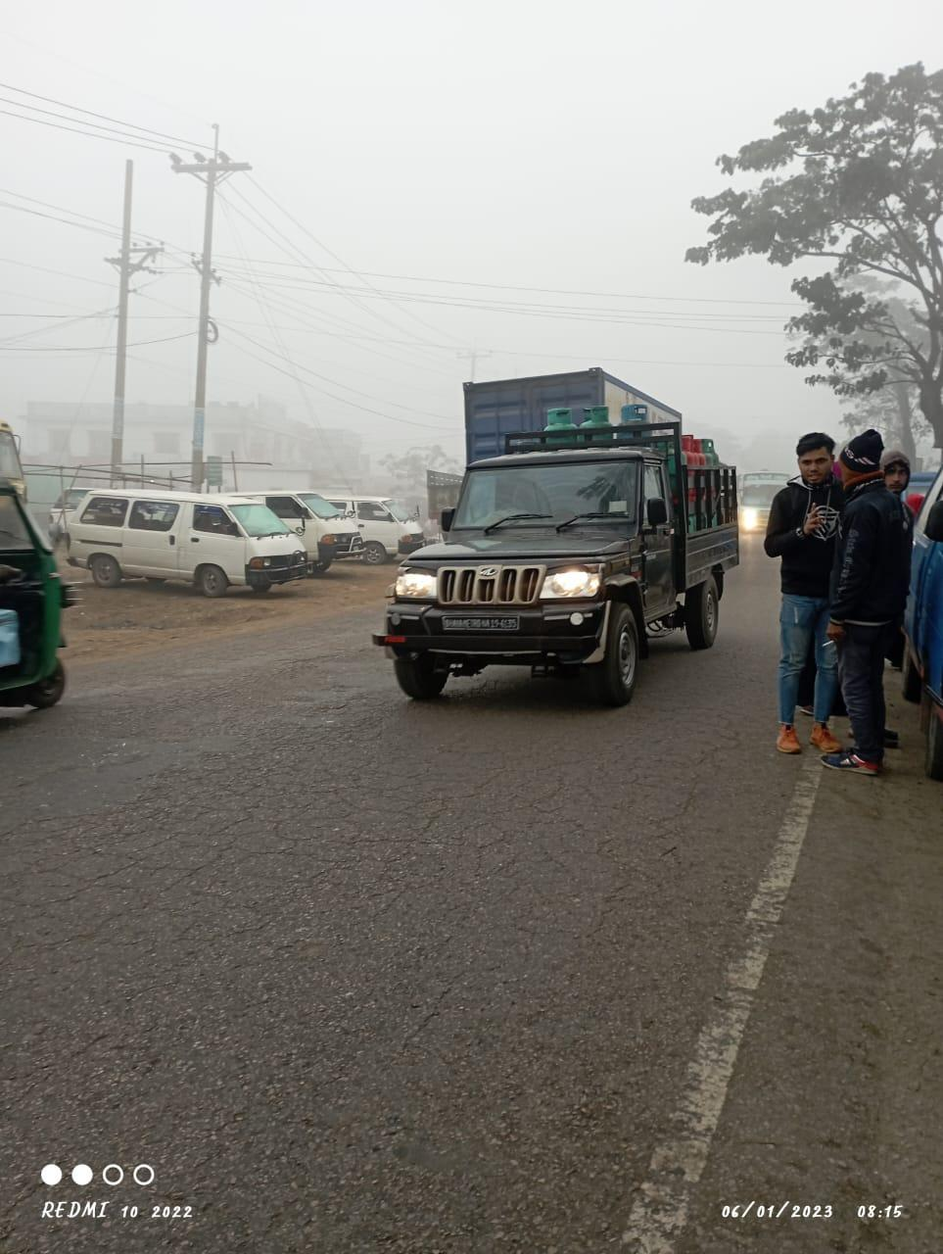Car: (69, 478, 313, 608), (335, 479, 435, 573)
Truck: (372, 418, 744, 693)
